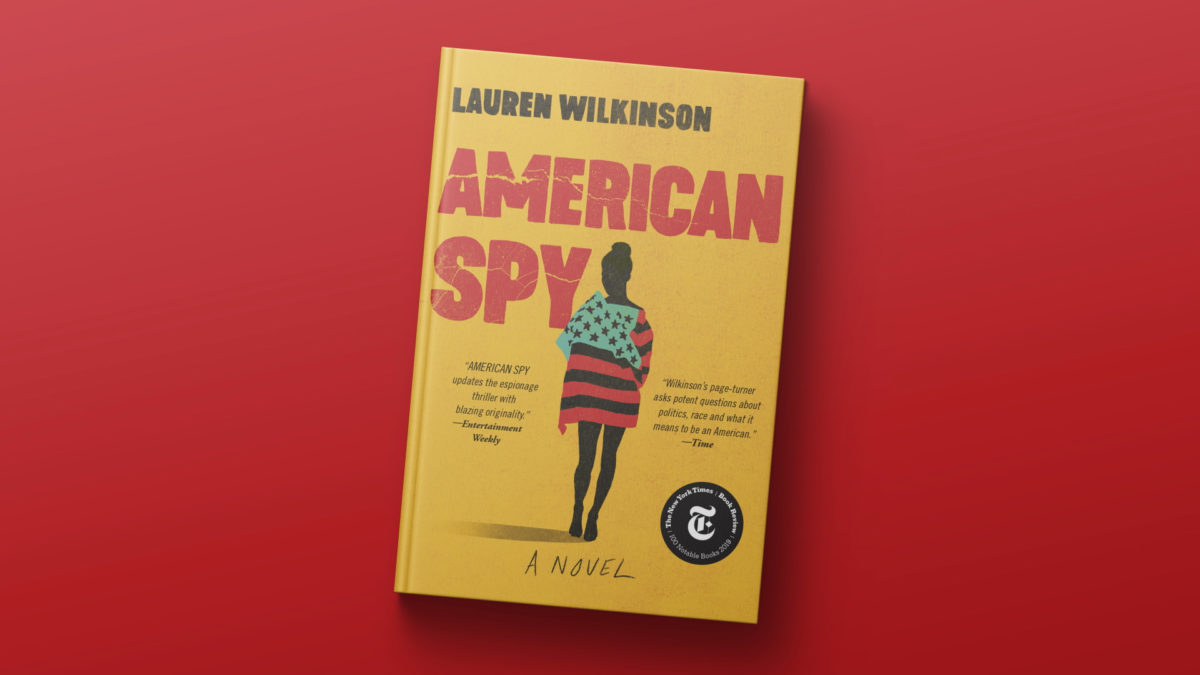book: (389, 44, 808, 630)
